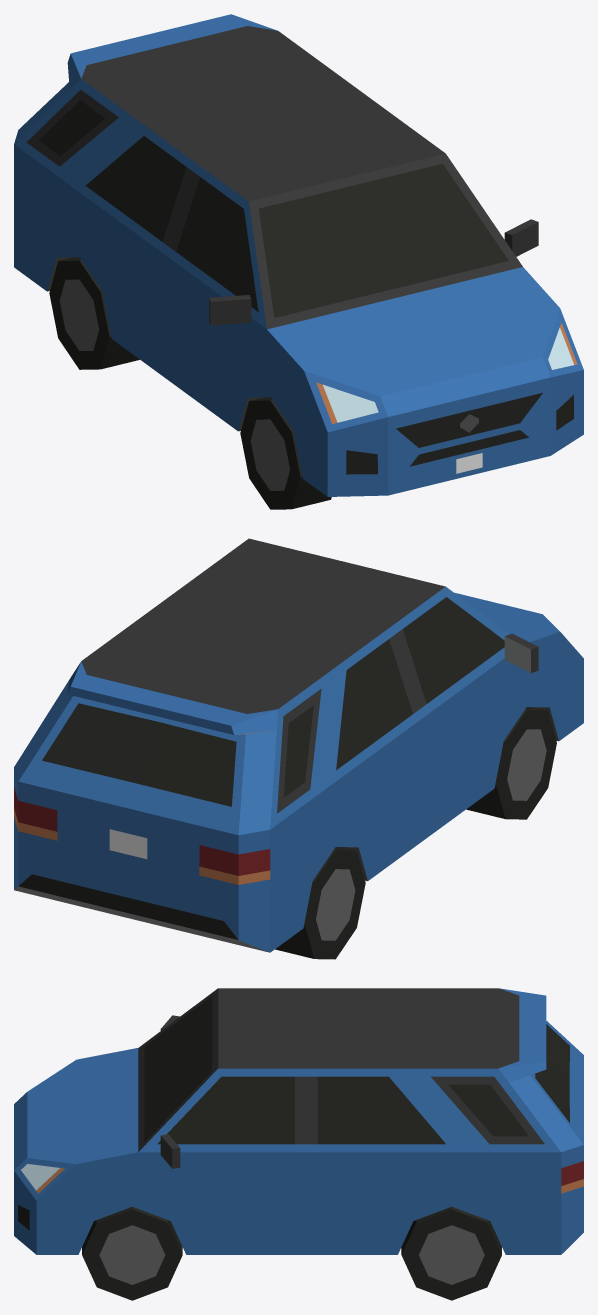
Rendered from Veh_SUV_01_Blue.obj.
3 renders of one model, top to bottom at view 1: azimuth 30°, elevation 25°; view 2: azimuth 150°, elevation 25°; view 3: azimuth 270°, elevation 25°, orthographic. The views are drawn at different scales.
Bounding box in the file's own units: 1.33 × 1.02 × 2.4.
